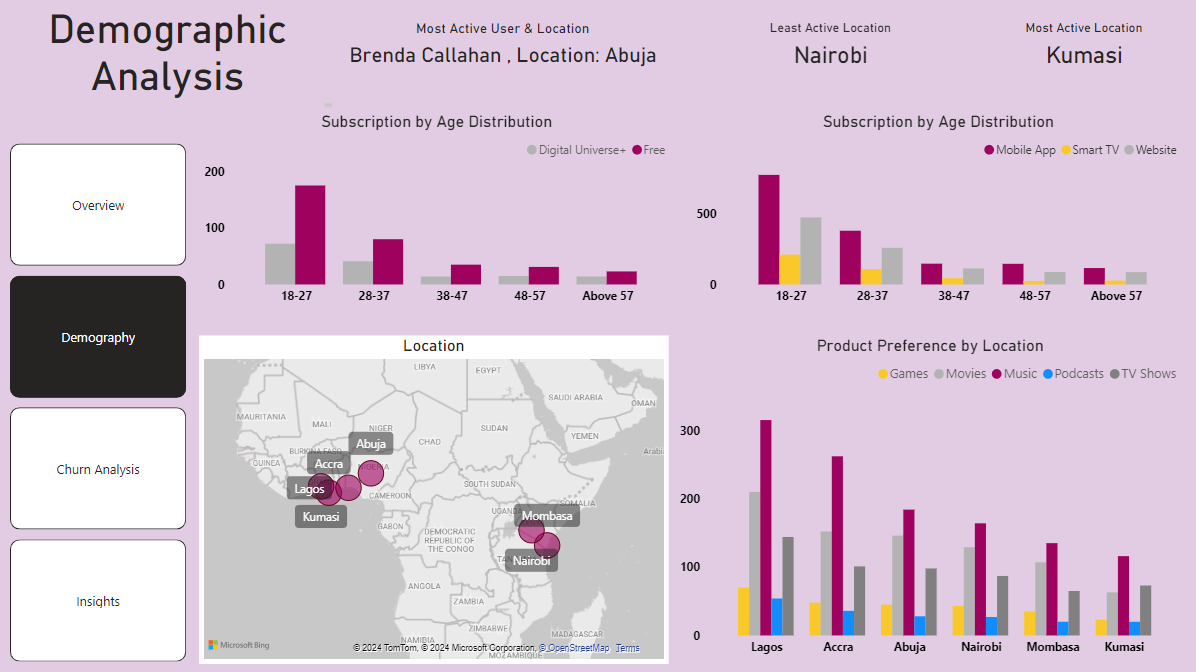

This screenshot's page, from the dashboard's own definition file:
{"tool":"powerbi","page":{"name":"Demography","canvas":[1280,720],"ordinal":1},"visuals":[{"type":"textbox","title":"Demographic Analysis","box":[0,17.1,352.2,110.6],"z":0},{"type":"card","title":"Most Active User & Location","fields":{"Values":["Measues Table (2).MostActiveUserWithLocation"]},"box":[352.2,32.7,344.4,54.5],"z":1000},{"type":"card","title":"Most Active Location","fields":{"Values":["Measues Table (2).Most Active Location"]},"box":[1022.3,32.7,211.9,54.5],"z":2000},{"type":"card","title":"Least Active Location","fields":{"Values":["Measues Table (2).Least Active Location"]},"box":[762.1,32.7,205.7,54.5],"z":3000},{"type":"clusteredColumnChart","title":"Subscription by Age Distribution ","fields":{"Series":["user_profile_data 2.Sept_sub_type"],"Category":["user_profile_data 2.Age Distribution"],"Y":["CountNonNull(user_profile_data 2.Sept_sub_type)"]},"box":[208.8,127.8,494,208.8],"z":4000},{"type":"clusteredColumnChart","title":"Subscription by Age Distribution ","fields":{"Category":["user_profile_data 2.Age Distribution"],"Series":["session_data 2.Platform"],"Y":["Measues Table (2).Total sessions"]},"box":[720,127.8,514.3,208.8],"z":5000},{"type":"map","fields":{"Category":["user_profile_data 2.Location"]},"box":[208.8,360,487.8,341.3],"z":6000},{"type":"clusteredColumnChart","title":"Product Preference by Location ","fields":{"Y":["Measues Table (2).Total sessions"],"Category":["user_profile_data 2.Location"],"Series":["session_data 2.Product Type"]},"box":[702.9,360,531.4,341.3],"z":7000},{"type":"pageNavigator","box":[12.5,160.5,183.9,540.8],"z":8000}]}

Visuals, with their boxes in screenshot pixels (x1, y1, x2, y2), scaled from the page's 1280x720 canvas onto the 1196x672 screenshot:
"Demographic Analysis" textbox: detection(0, 16, 329, 119)
"Most Active User & Location" card: detection(329, 31, 651, 81)
"Most Active Location" card: detection(955, 31, 1153, 81)
"Least Active Location" card: detection(712, 31, 904, 81)
"Subscription by Age Distribution " clusteredColumnChart: detection(195, 119, 657, 314)
"Subscription by Age Distribution " clusteredColumnChart: detection(673, 119, 1153, 314)
map - user_profile_data 2.Location: detection(195, 336, 651, 655)
"Product Preference by Location " clusteredColumnChart: detection(657, 336, 1153, 655)
pageNavigator: detection(12, 150, 184, 655)
